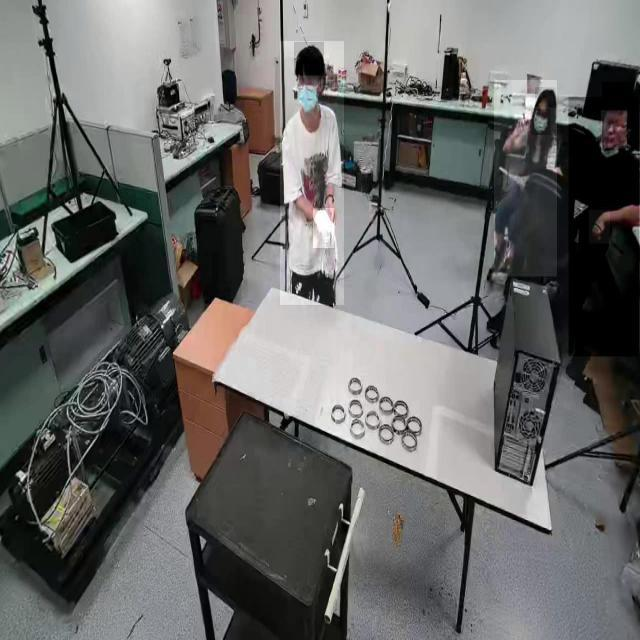gloves: (313, 208, 335, 249)
